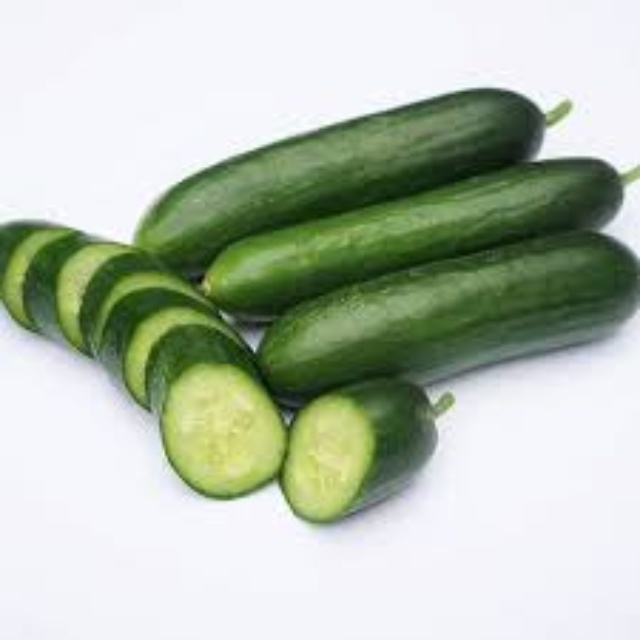dua_leo: (199, 159, 638, 327), (129, 89, 549, 257), (258, 232, 640, 411)
